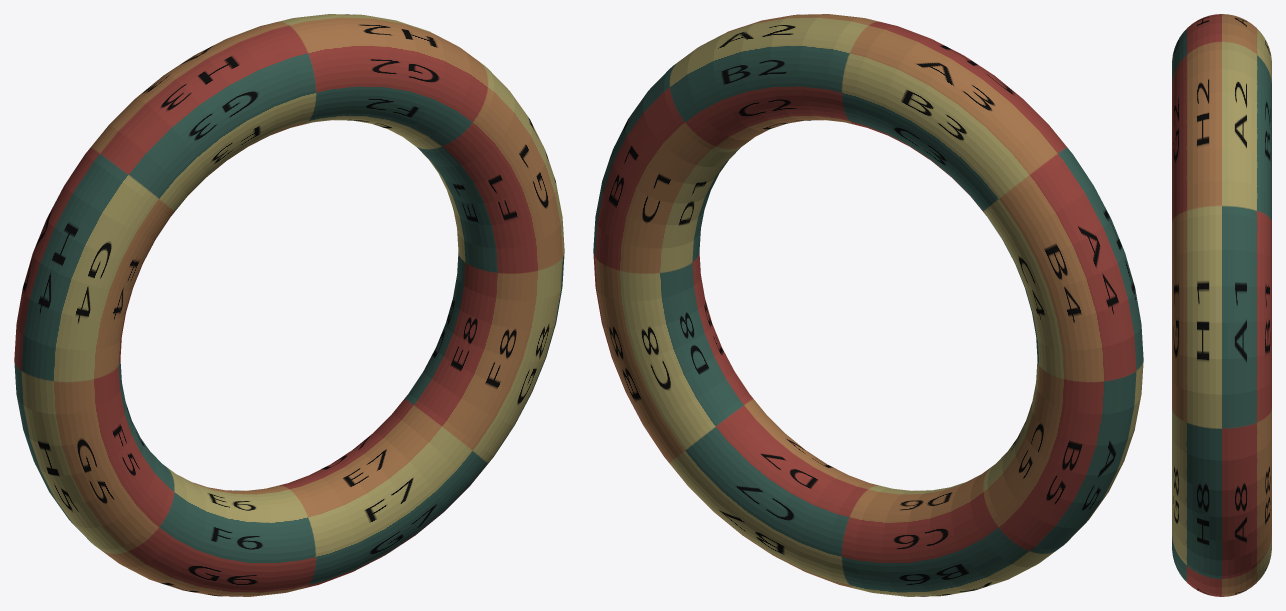
The model's file is texture_torus_R13_r7.glb.
The picture shows the model from 3 angles, left to right: view 1: azimuth 30°, elevation 25°; view 2: azimuth 150°, elevation 25°; view 3: azimuth 270°, elevation 25°; orthographic projection. The views are drawn at different scales.
Visible parts, largest first — view 1: world; view 2: world; view 3: world.
Boxes of the visible parts, x1,y1,x2,y2 form: world: [14, 14, 564, 596]; world: [593, 14, 1143, 596]; world: [1172, 14, 1271, 596].
Size of the model in its own units: 22.53 by 22.49 by 3.86.
1 material, 1 textured.
